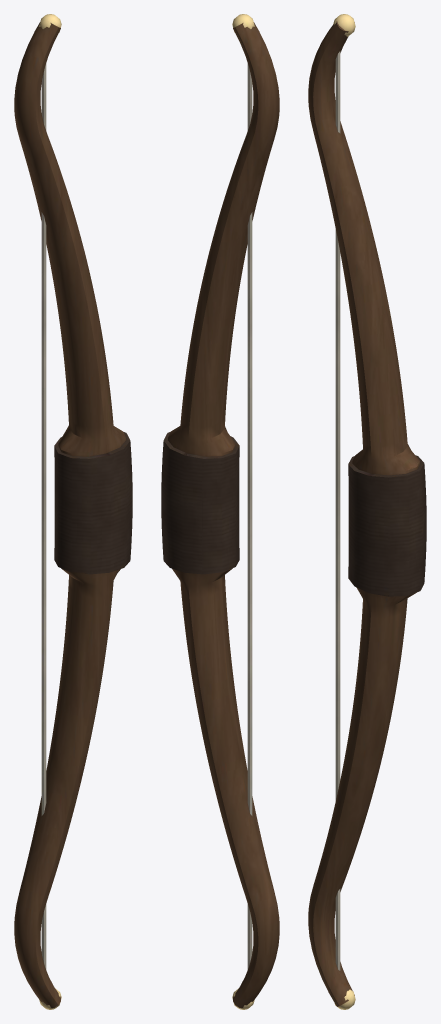
Rendered from wpn_bow.glb.
The picture shows the model from 3 angles, left to right: view 1: azimuth 30°, elevation 25°; view 2: azimuth 150°, elevation 25°; view 3: azimuth 330°, elevation 25°; orthographic projection.
Visible parts, largest first — view 1: bow; view 2: bow; view 3: bow.
Part boxes in pixels (box(x1,y1,x2,y2)): bow: box(14, 14, 132, 1009); bow: box(161, 14, 279, 1009); bow: box(308, 14, 426, 1009).
Size of the model in its own units: 0.1341 by 1.14 by 0.072.
1 material, 1 textured.
